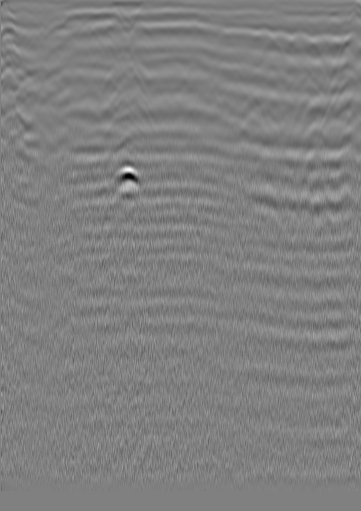가스: (104, 164, 148, 193)
상수: (24, 25, 44, 45)
오수: (305, 23, 325, 43)
우수: (164, 18, 184, 38)
